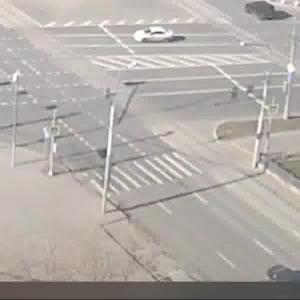car: (132, 26, 176, 45), (246, 3, 280, 24), (266, 264, 300, 284)
